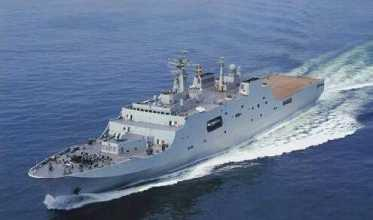warship: (25, 43, 328, 196)
